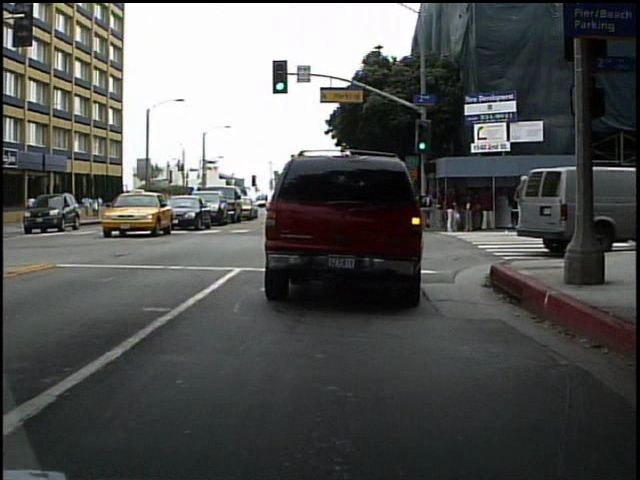person: (511, 172, 535, 238), (24, 194, 40, 215)
